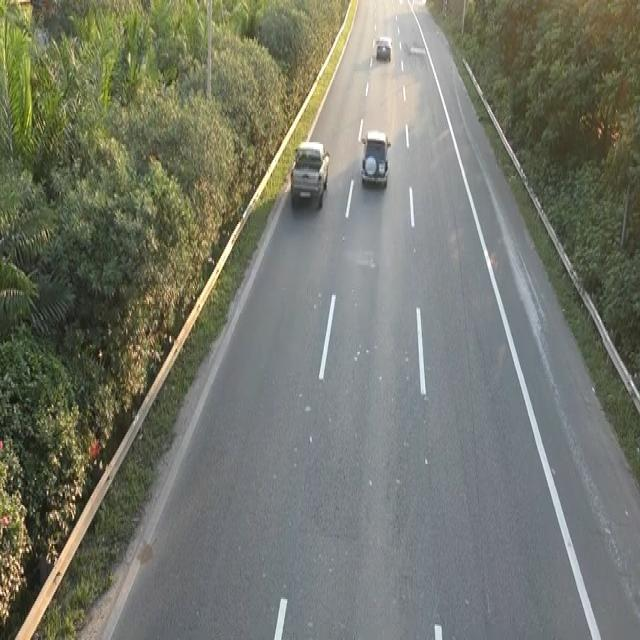bus: (374, 34, 392, 60)
car: (287, 137, 333, 215), (359, 126, 391, 188)
